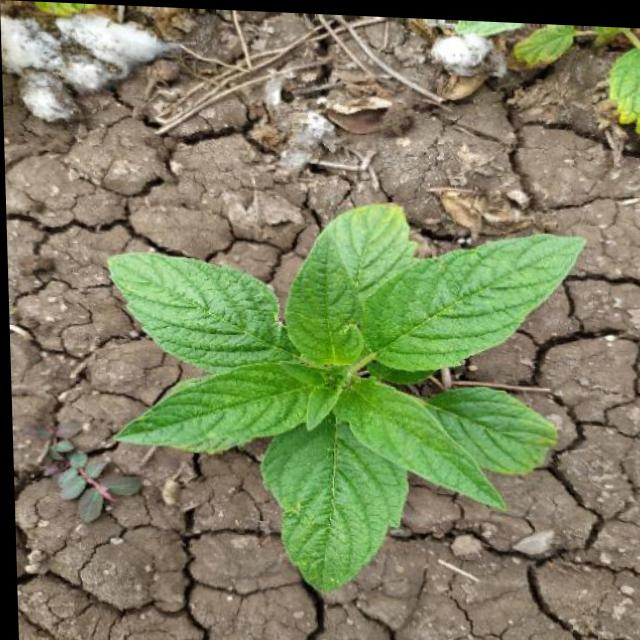crop: (103, 178, 611, 591)
